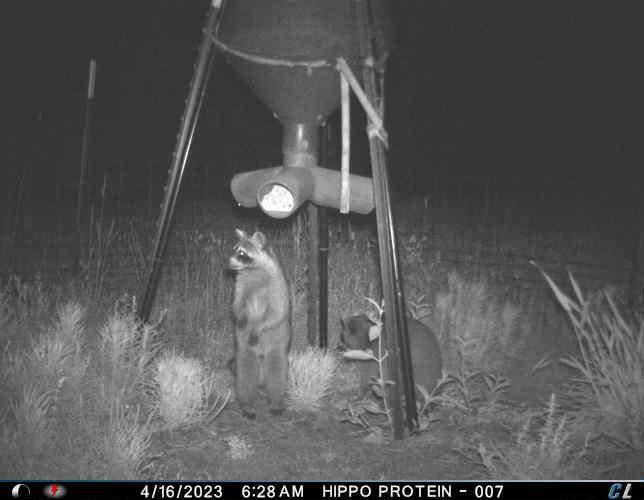Raccoon: (221, 226, 293, 422), (336, 311, 444, 419)
